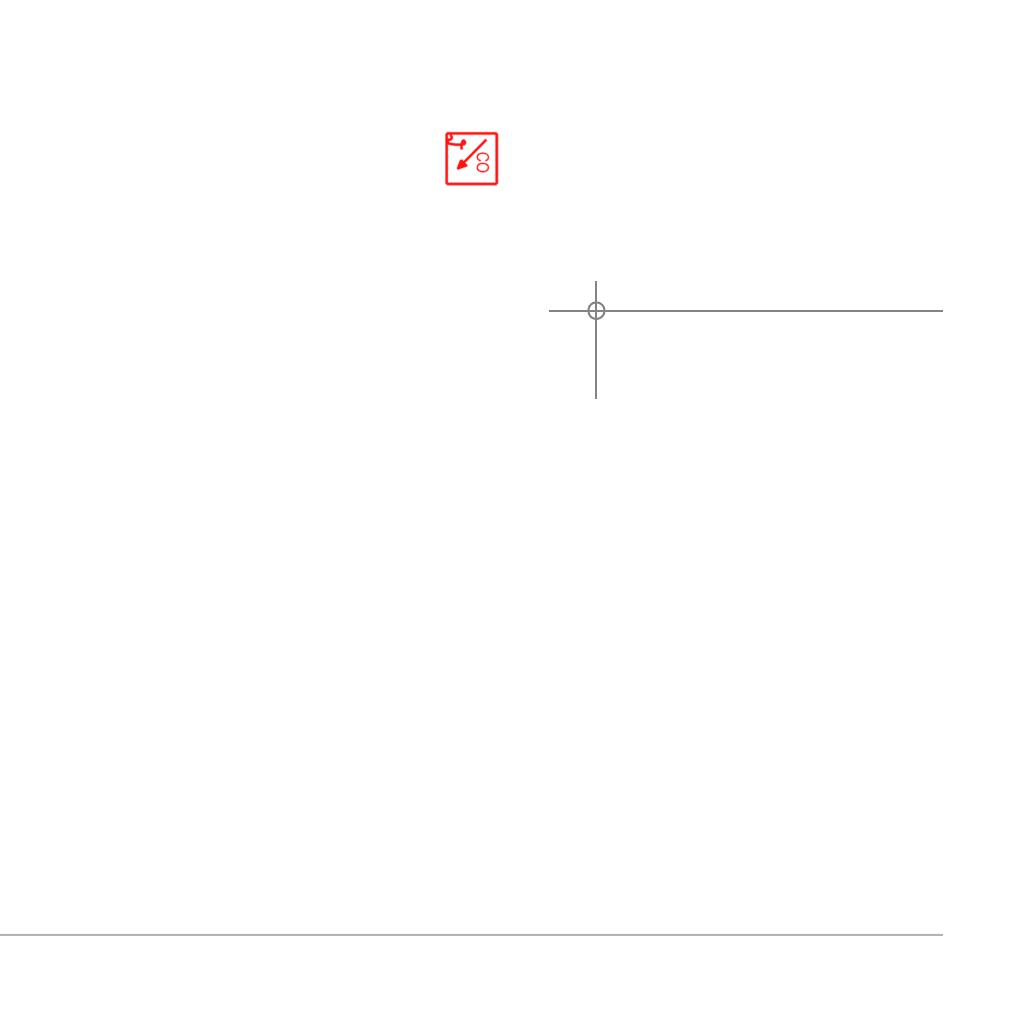ROA_Rauchmelder_optisch_mit_Signalgeber_(Sockelsirene): (443, 131, 499, 187)
